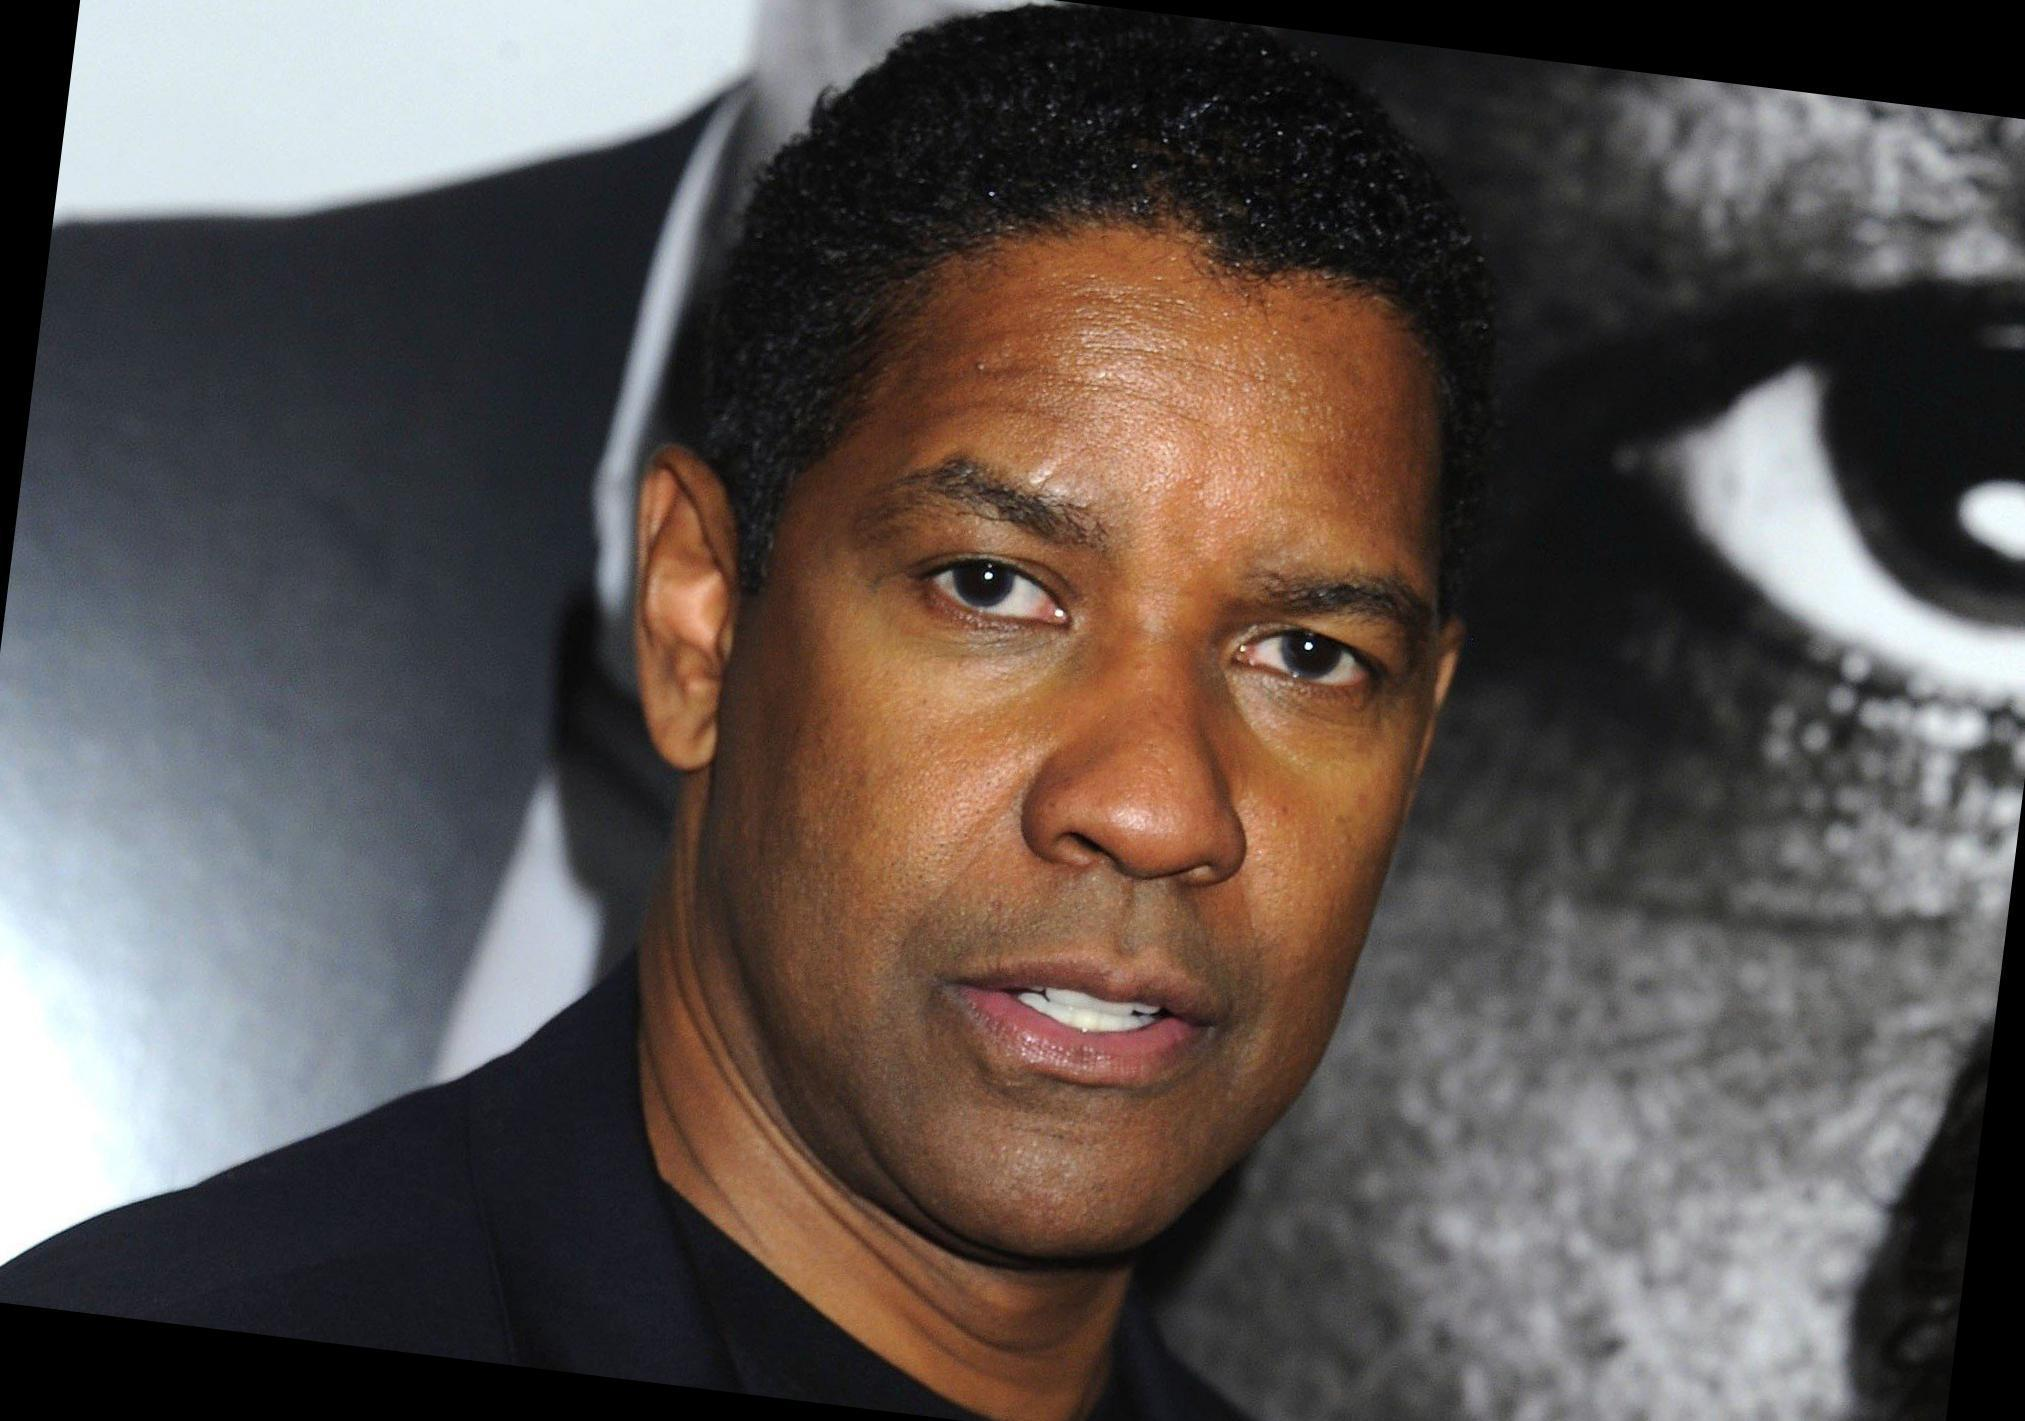Sober: (748, 302, 1391, 1215)
